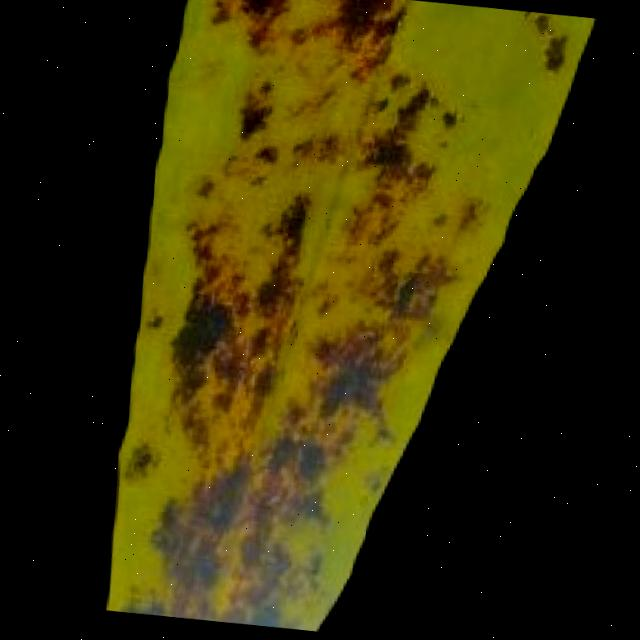mite: (427, 4, 591, 79), (107, 430, 159, 488), (356, 127, 410, 178), (230, 93, 271, 142), (106, 585, 161, 617), (113, 436, 151, 482), (536, 31, 568, 76), (132, 299, 164, 336), (231, 0, 281, 23), (250, 140, 276, 166), (138, 307, 161, 331), (435, 108, 455, 132)
